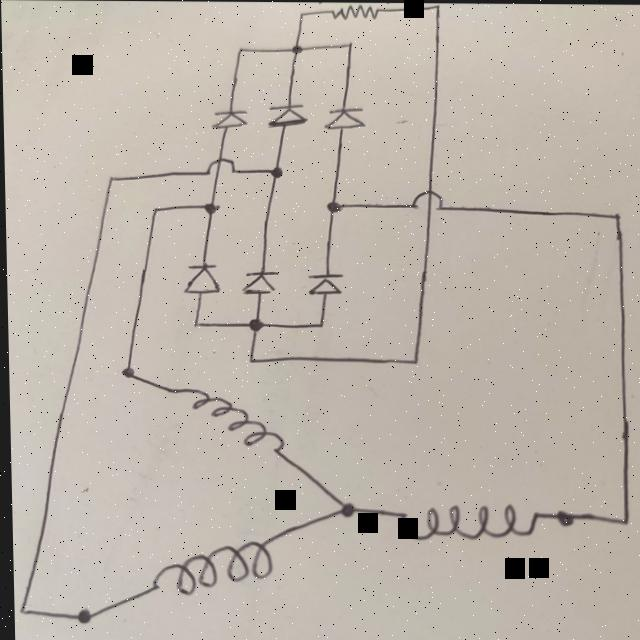crossover: (408, 190, 442, 214), (200, 158, 234, 176)
diode: (181, 263, 218, 297), (323, 107, 364, 134), (239, 269, 275, 297), (266, 103, 305, 127), (209, 109, 246, 133), (306, 272, 340, 298)
inductor: (171, 387, 282, 454), (148, 541, 267, 593), (391, 503, 535, 541)
junction: (333, 498, 354, 519), (68, 606, 90, 626), (243, 314, 265, 334), (550, 509, 574, 526), (10, 602, 31, 619), (322, 198, 344, 214), (198, 200, 217, 217), (115, 365, 134, 381), (263, 165, 282, 181), (606, 209, 624, 224), (403, 354, 421, 368), (287, 42, 302, 58), (613, 514, 629, 529), (311, 318, 324, 332), (242, 354, 256, 366), (187, 319, 201, 331), (103, 174, 116, 186), (429, 3, 443, 13), (342, 40, 356, 50), (147, 206, 160, 216), (233, 46, 245, 56), (294, 11, 306, 20)
resistor: (324, 3, 378, 22)
